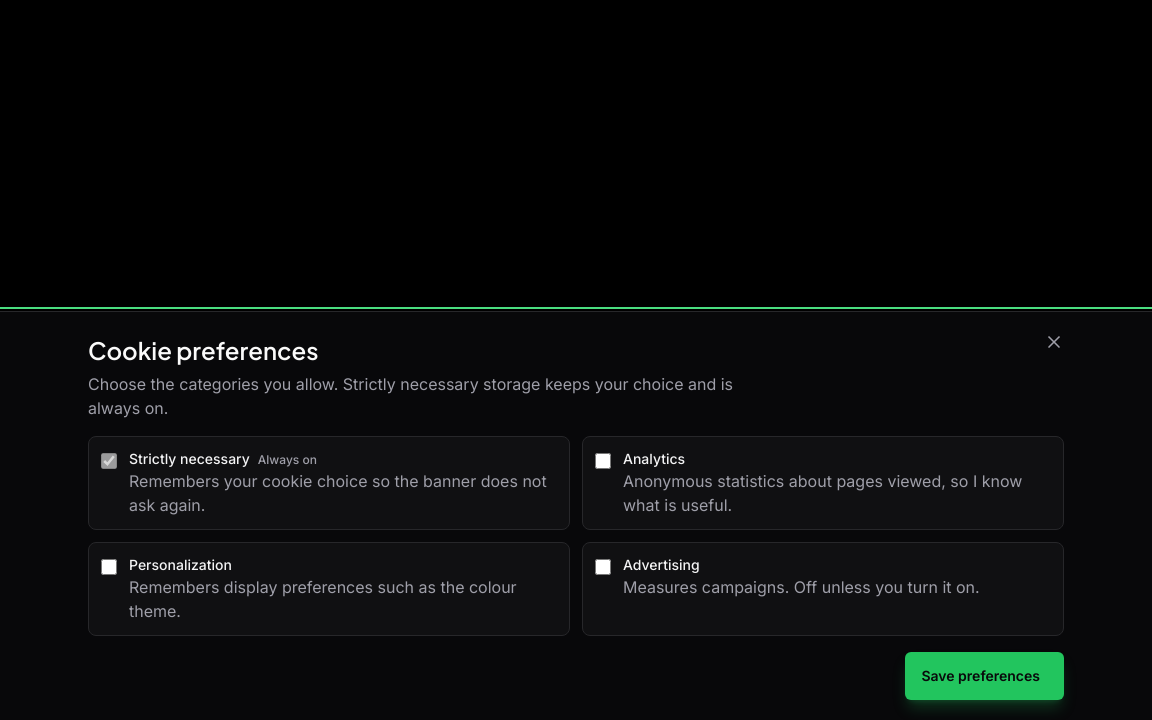
it: CookieBanner preferences › falls back to the banner when preferences are closed with no stored choice
Click the button named "Close cookie preferences": (1054, 342) [1036,324,1072,360]
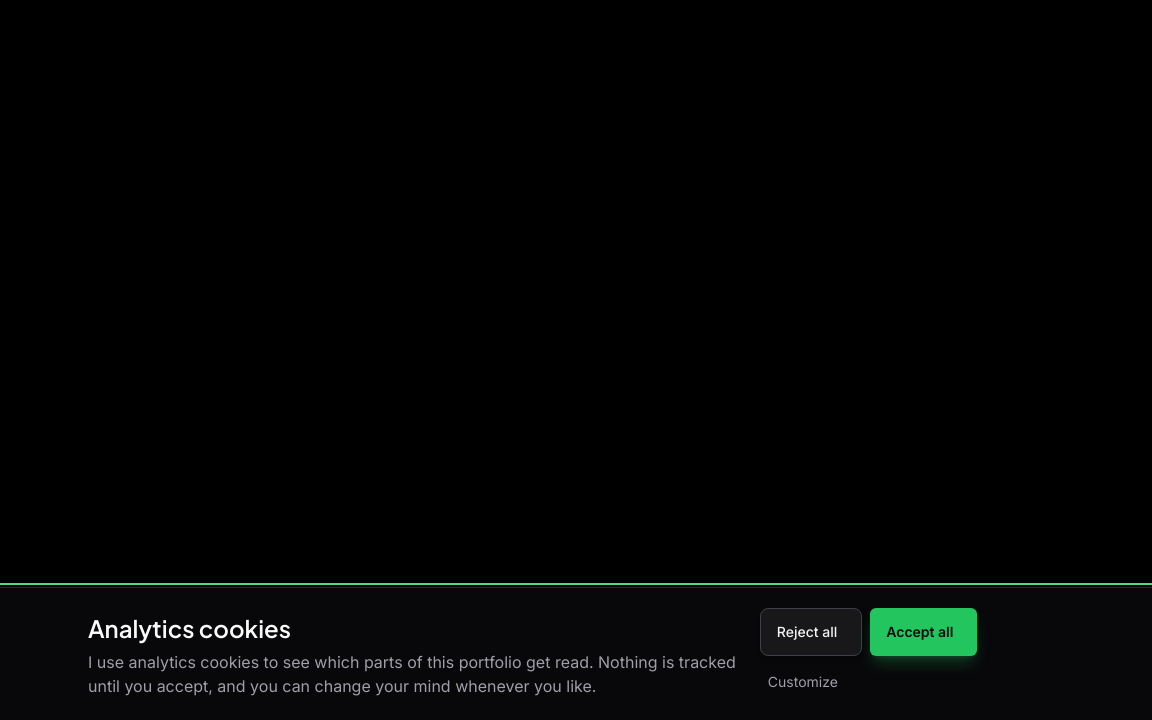
Expected: the heading "Analytics cookies" is shown, [88,613,291,643]
